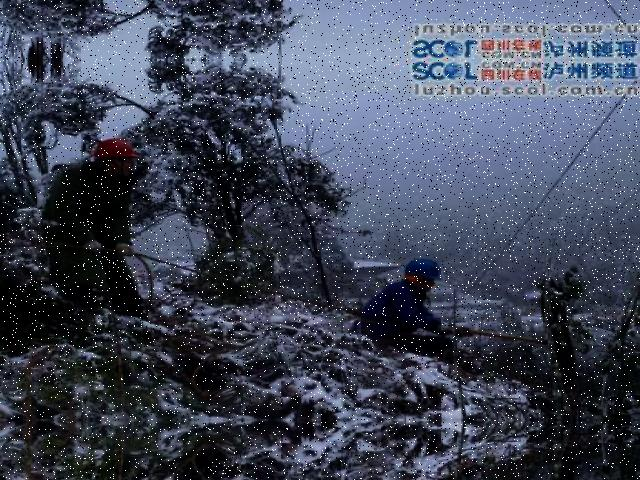Helmet: (91, 136, 138, 164), (397, 254, 442, 282)
